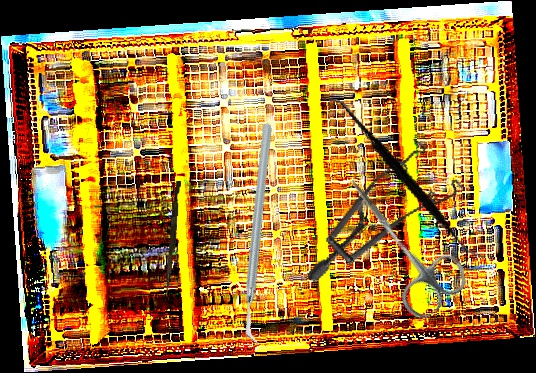Chopper: (167, 121, 354, 348)
Iris Scissors: (321, 160, 475, 325)
Pusher: (165, 180, 181, 294)
Spatula Surgical: (290, 95, 517, 261)
Speculum: (306, 120, 473, 320)
